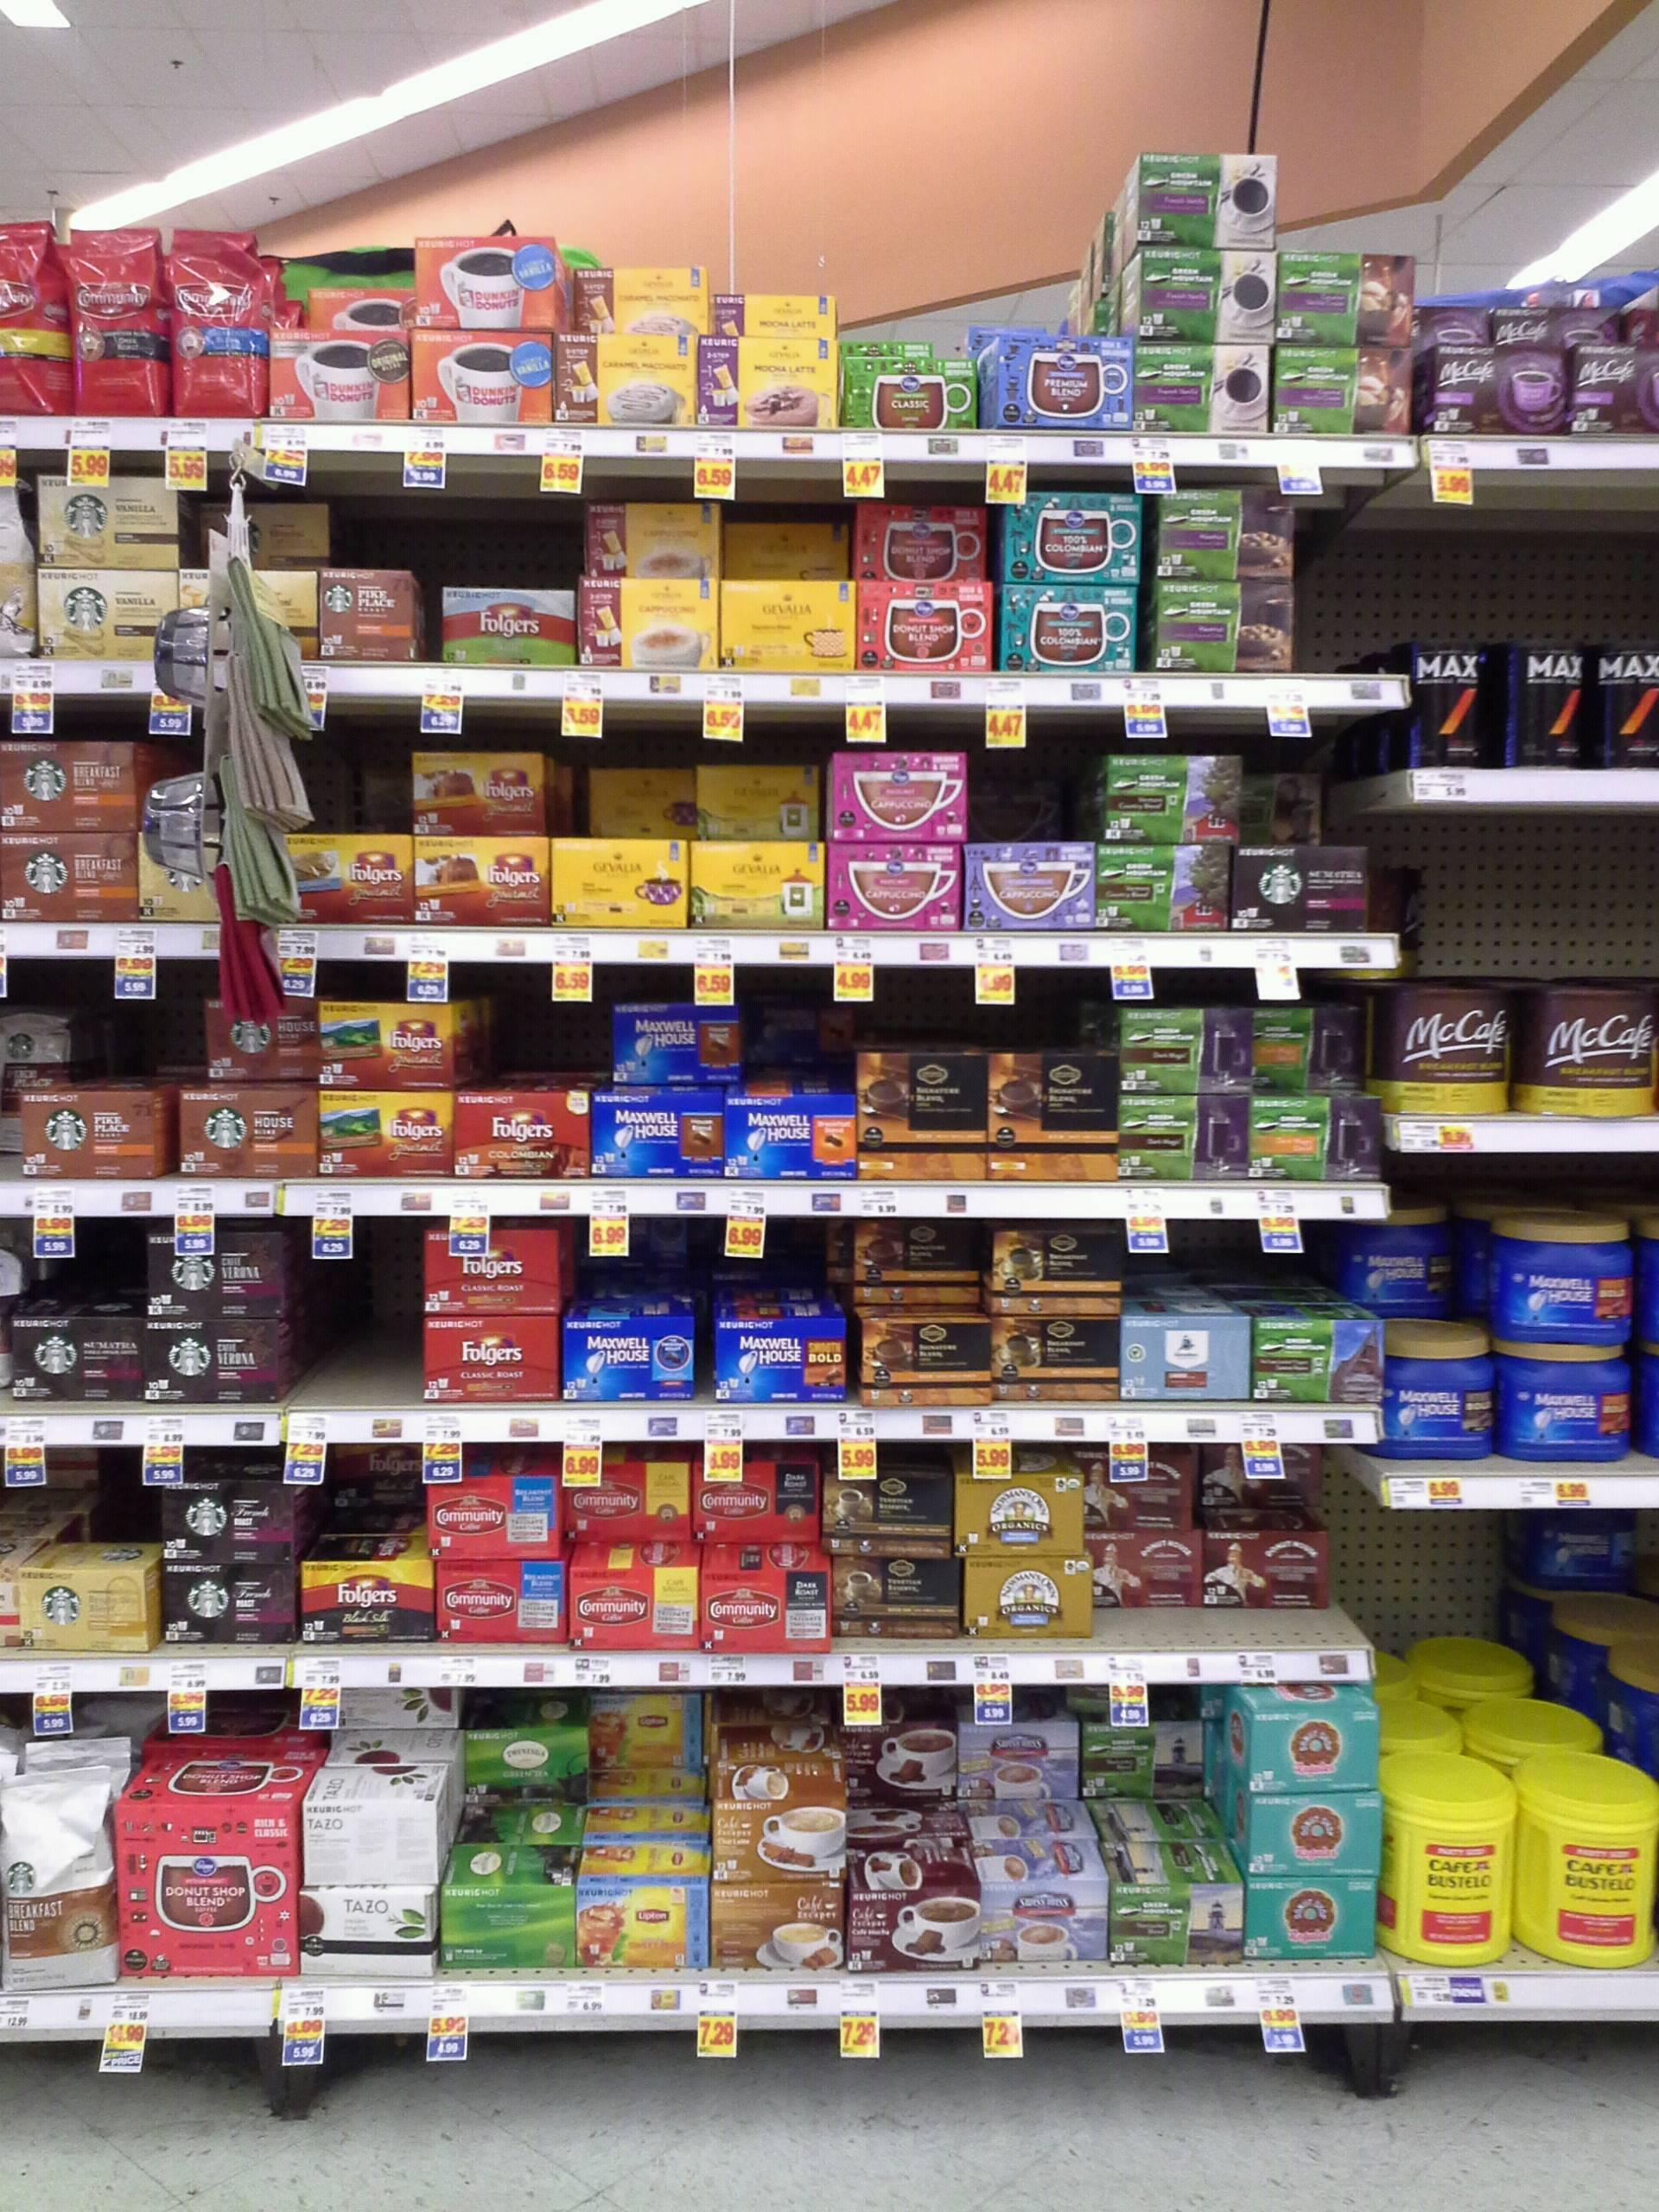empty: (289, 1256, 418, 1400), (1194, 1541, 1340, 1651), (972, 745, 1091, 846), (1094, 1538, 1195, 1655)
